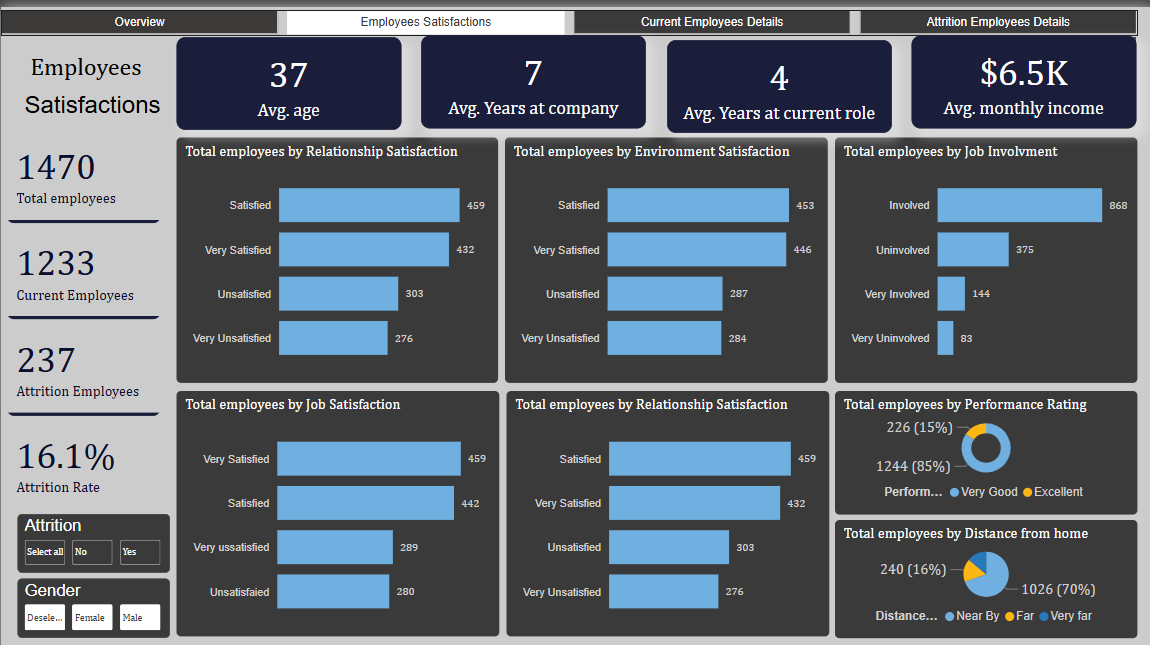

Layout of this report page (visuals, bound fields, positions):
{"tool":"powerbi","page":{"name":"Employees Satisfactions","canvas":[1280,720],"ordinal":1},"visuals":[{"type":"shape","box":[12.5,63.8,171.2,636.2],"z":0},{"type":"pageNavigator","box":[13.6,14.5,1248.2,35.5],"z":1000},{"type":"textbox","box":[12.7,61.8,170.9,42.7],"z":2000},{"type":"textbox","box":[12.7,90.9,170.9,40.9],"z":3000},{"type":"card","title":"Avg. age","fields":{"Values":["_Measures.Avg. age"]},"box":[195.6,62.2,256.7,73.3],"z":4000},{"type":"card","title":"Avg. Years at company","fields":{"Values":["_Measures.Avg. Years at company"]},"box":[467.8,63.3,260,72.2],"z":5000},{"type":"card","title":"Avg. Years at current role","fields":{"Values":["_Measures.Avg. Years at current role"]},"box":[738.9,63.3,264.4,72.2],"z":6000},{"type":"card","title":"Avg. monthly income","fields":{"Values":["_Measures.Avg. monthly income"]},"box":[1012.2,62.2,250,73.3],"z":7000},{"type":"cardVisual","fields":{"Data":["_Measures.Total employees","_Measures.Current Employees","_Measures.Attrition Employees","_Measures.Attrition Rate"]},"box":[20.9,129.1,155.5,420],"z":8000},{"type":"slicer","fields":{"Values":["HR-Employee-Attrition.Attrition"]},"box":[21.1,555.6,155.6,65.6],"z":9000},{"type":"slicer","fields":{"Values":["HR-Employee-Attrition.Gender"]},"box":[21.1,628.9,155.6,63.3],"z":10000},{"type":"barChart","fields":{"Category":["HR-Employee-Attrition.Job Involvment"],"Y":["_Measures.Total emplyees"]},"box":[927.1,145.6,335.7,272.9],"z":11000},{"type":"barChart","fields":{"Category":["HR-Employee-Attrition.Relationship Satisfaction"],"Y":["_Measures.Total employees"]},"box":[194.3,145.6,357.1,272.9],"z":12000},{"type":"barChart","fields":{"Category":["HR-Employee-Attrition.Environment Satisfaction "],"Y":["_Measures.Total emplyees"]},"box":[560,145.6,358.6,272.9],"z":13000},{"type":"barChart","fields":{"Category":["HR-Employee-Attrition.Job Satisfaction"],"Y":["_Measures.Total emplyees"]},"box":[194.3,427,358.6,272.9],"z":14000},{"type":"barChart","fields":{"Category":["HR-Employee-Attrition.Relationship Satisfaction"],"Y":["_Measures.Total emplyees"]},"box":[561.4,427,358.6,272.9],"z":15000},{"type":"donutChart","fields":{"Y":["_Measures.Total emplyees"],"Category":["HR-Employee-Attrition.Performance Rating "]},"box":[927.1,427,335.7,137.1],"z":16000},{"type":"pieChart","fields":{"Y":["_Measures.Total emplyees"],"Category":["HR-Employee-Attrition.Distance from home"]},"box":[927.3,569.3,336,131.3],"z":17000}]}

Visuals, with their boxes in screenshot pixels (x1, y1, x2, y2), scaled from the page's 1280x720 canvas onto the 1150x645 screenshot:
shape: <region>11, 57, 165, 627</region>
pageNavigator: <region>12, 13, 1134, 45</region>
textbox: <region>11, 55, 165, 94</region>
textbox: <region>11, 81, 165, 118</region>
"Avg. age" card: <region>176, 56, 406, 121</region>
"Avg. Years at company" card: <region>420, 57, 654, 121</region>
"Avg. Years at current role" card: <region>664, 57, 901, 121</region>
"Avg. monthly income" card: <region>909, 56, 1134, 121</region>
cardVisual - _Measures.Total employees x _Measures.Current Employees: <region>19, 116, 158, 492</region>
slicer - HR-Employee-Attrition.Attrition: <region>19, 498, 159, 556</region>
slicer - HR-Employee-Attrition.Gender: <region>19, 563, 159, 620</region>
barChart - HR-Employee-Attrition.Job Involvment x _Measures.Total emplyees: <region>833, 130, 1135, 375</region>
barChart - HR-Employee-Attrition.Relationship Satisfaction x _Measures.Total employees: <region>175, 130, 495, 375</region>
barChart - HR-Employee-Attrition.Environment Satisfaction  x _Measures.Total emplyees: <region>503, 130, 825, 375</region>
barChart - HR-Employee-Attrition.Job Satisfaction x _Measures.Total emplyees: <region>175, 383, 497, 627</region>
barChart - HR-Employee-Attrition.Relationship Satisfaction x _Measures.Total emplyees: <region>504, 383, 827, 627</region>
donutChart - _Measures.Total emplyees x HR-Employee-Attrition.Performance Rating : <region>833, 383, 1135, 505</region>
pieChart - _Measures.Total emplyees x HR-Employee-Attrition.Distance from home: <region>833, 510, 1135, 628</region>
